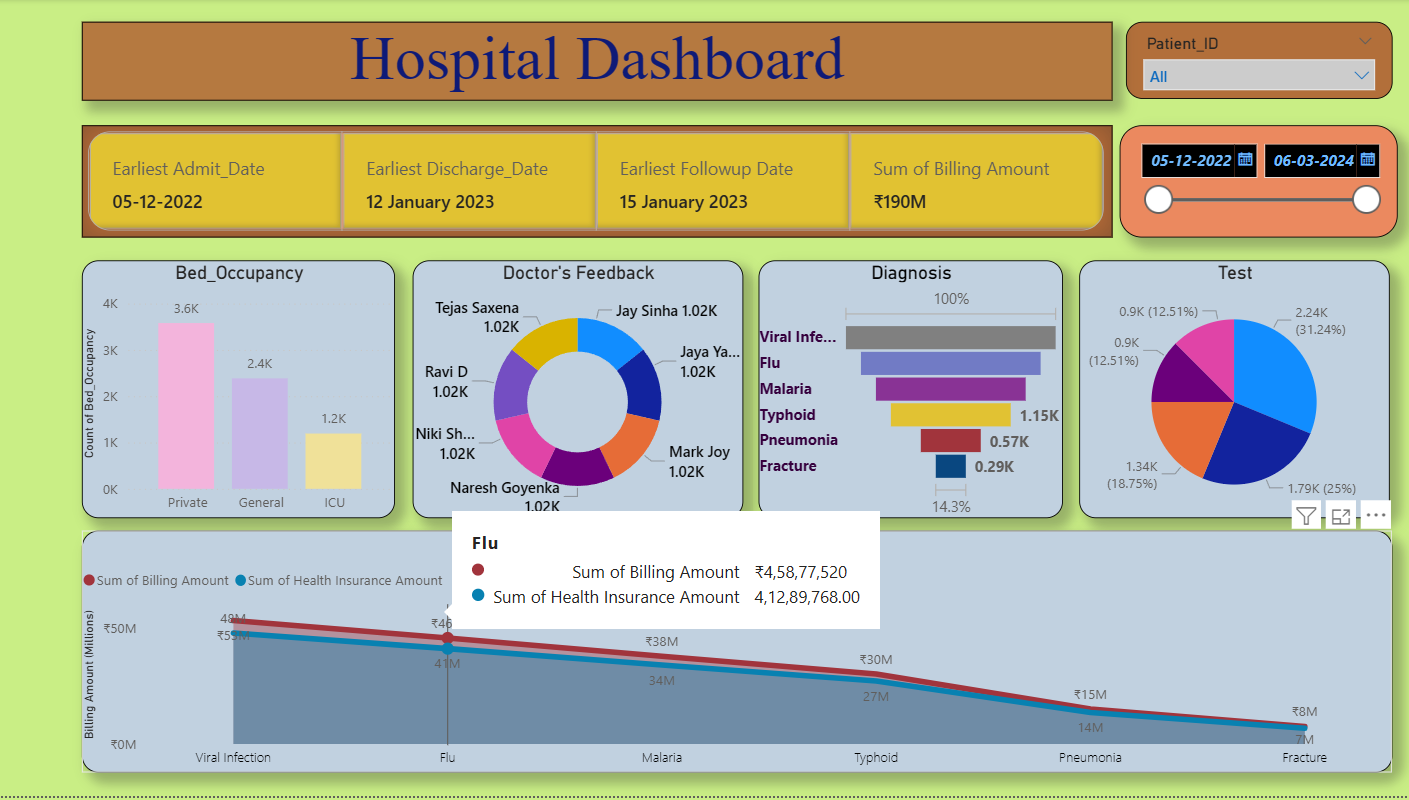

Layout of this report page (visuals, bound fields, positions):
{"tool":"powerbi","page":{"name":"Page 1","canvas":[1280,720],"ordinal":0},"visuals":[{"type":"cardVisual","fields":{"Data":["Sheet1.Admit_Date","Sheet1.Discharge_Date","Sheet1.Followup Date","Sheet1.Billing Amount"]},"box":[78,114.3,931,101.7],"z":0},{"type":"slicer","fields":{"Values":["Sheet1.Patient_ID"]},"box":[1020.2,20.9,241.1,69.7],"z":1000},{"type":"textbox","box":[78,20.9,931,71.1],"z":2000},{"type":"slicer","fields":{"Values":["Sheet1.Admit_Date"]},"box":[1014.6,114.3,250.9,101.7],"z":3000},{"type":"columnChart","title":"Bed_Occupancy","fields":{"Category":["Sheet1.Bed_Occupancy"],"Y":["Sheet1.Bed_Occupancy"]},"box":[78,235.5,282.9,232.8],"z":4000},{"type":"donutChart","title":"Doctor''s Feedback","fields":{"Y":["Sheet1.Doctor"],"Category":["Sheet1.Doctor"]},"box":[375.8,235.5,298.3,232.7],"z":5000},{"type":"funnel","title":"Diagnosis","fields":{"Category":["Sheet1.Diagnosis"],"Y":["Sheet1.Diagnosis"]},"box":[689,235.5,274.6,232.7],"z":6000},{"type":"pieChart","title":"Test ","fields":{"Category":["Sheet1.Test"],"Y":["Sheet1.Test"]},"box":[978.4,235.5,280.1,232.7],"z":7000},{"type":"lineChart","title":"Billing Type","fields":{"Y":["Sheet1.Billing Amount","Sheet1.Health Insurance Amount"],"Category":["Sheet1.Diagnosis"]},"box":[78,479.4,1183.3,218.8],"z":8000}]}

Visuals, with their boxes in screenshot pixels (x1, y1, x2, y2), scaled from the page's 1280x720 canvas onto the 1409x800 screenshot:
cardVisual - Sheet1.Admit_Date x Sheet1.Discharge_Date: region(86, 127, 1111, 240)
slicer - Sheet1.Patient_ID: region(1123, 23, 1388, 101)
textbox: region(86, 23, 1111, 102)
slicer - Sheet1.Admit_Date: region(1117, 127, 1393, 240)
"Bed_Occupancy" columnChart: region(86, 262, 397, 520)
"Doctor''s Feedback" donutChart: region(414, 262, 742, 520)
"Diagnosis" funnel: region(758, 262, 1061, 520)
"Test " pieChart: region(1077, 262, 1385, 520)
"Billing Type" lineChart: region(86, 533, 1388, 776)
